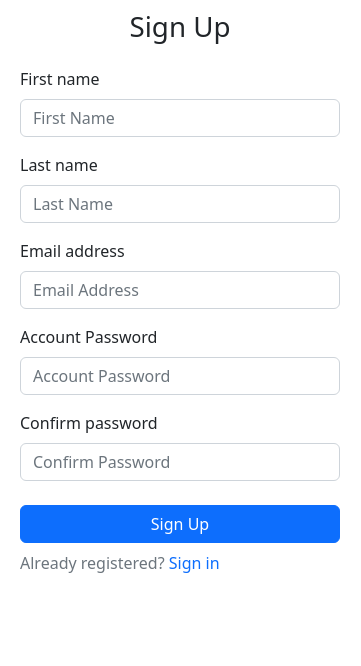
Testing SignUp component › Testing when the server sends an error it should shows the error
Type "Test" into the field with placeholder "First name".
click(180, 118); type("Test")  # box x1=20 y1=99 x2=340 y2=137
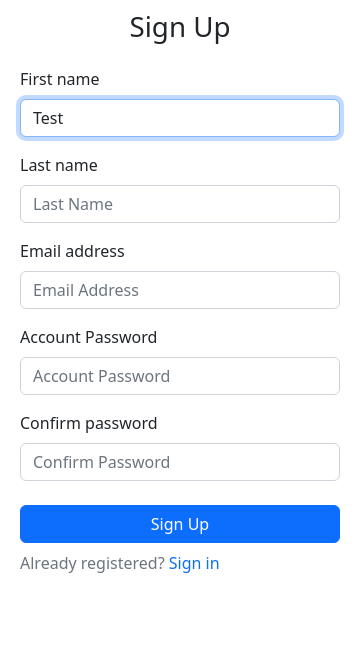
Type "Test" into the field with placeholder "Last name".
click(180, 204); type("Test")  # box x1=20 y1=185 x2=340 y2=223
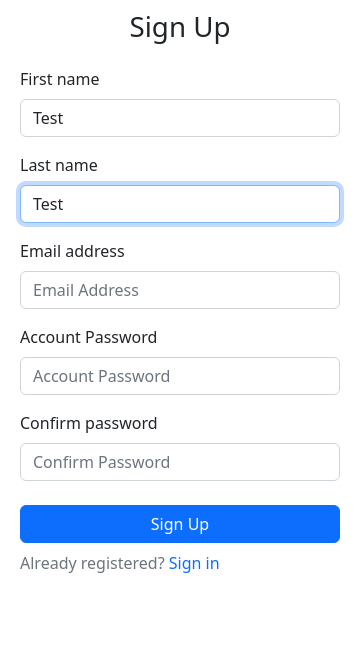
Type "testtest@email.com" into the field with placeholder "Email address".
click(180, 290); type("testtest@email.com")  # box x1=20 y1=271 x2=340 y2=309
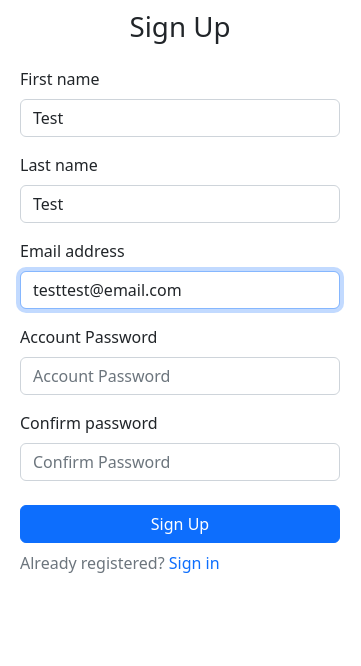
Type "Q1!wasdf" into the password field with placeholder "Account Password".
click(180, 376); type("Q1!wasdf")  # box x1=20 y1=357 x2=340 y2=395
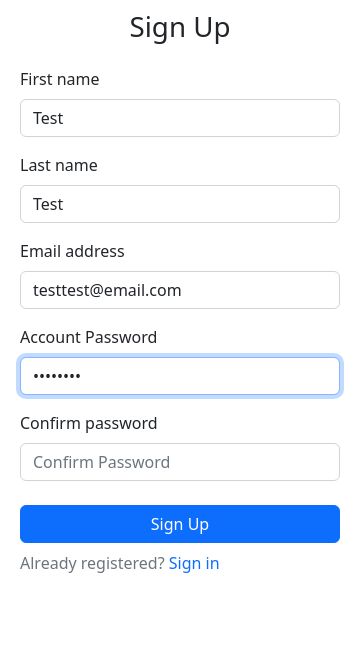
Type "Q1!wasdf" into the password field with placeholder "Confirm password".
click(180, 462); type("Q1!wasdf")  # box x1=20 y1=443 x2=340 y2=481
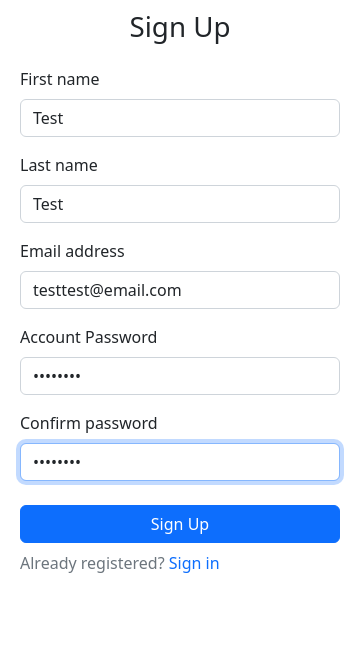
Click the button "Sign Up".
click(180, 524)  # box x1=20 y1=505 x2=340 y2=543
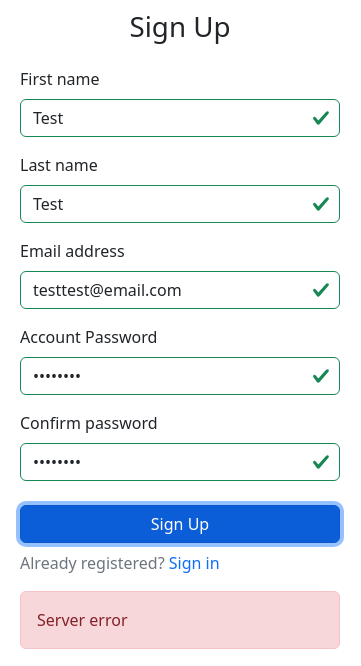
Now the text "Server error" is shown, box x1=20 y1=591 x2=340 y2=649
